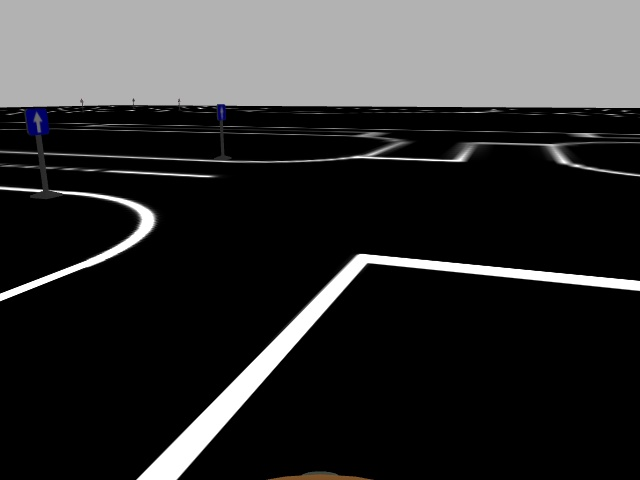oneway: (25, 107, 50, 138), (215, 102, 227, 123)
